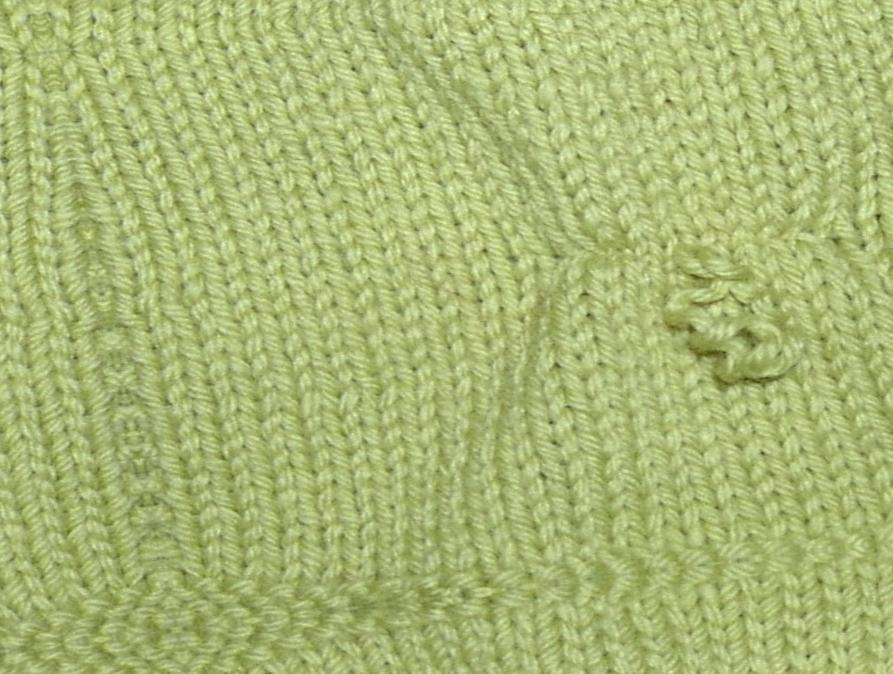knot: (656, 239, 809, 391)
